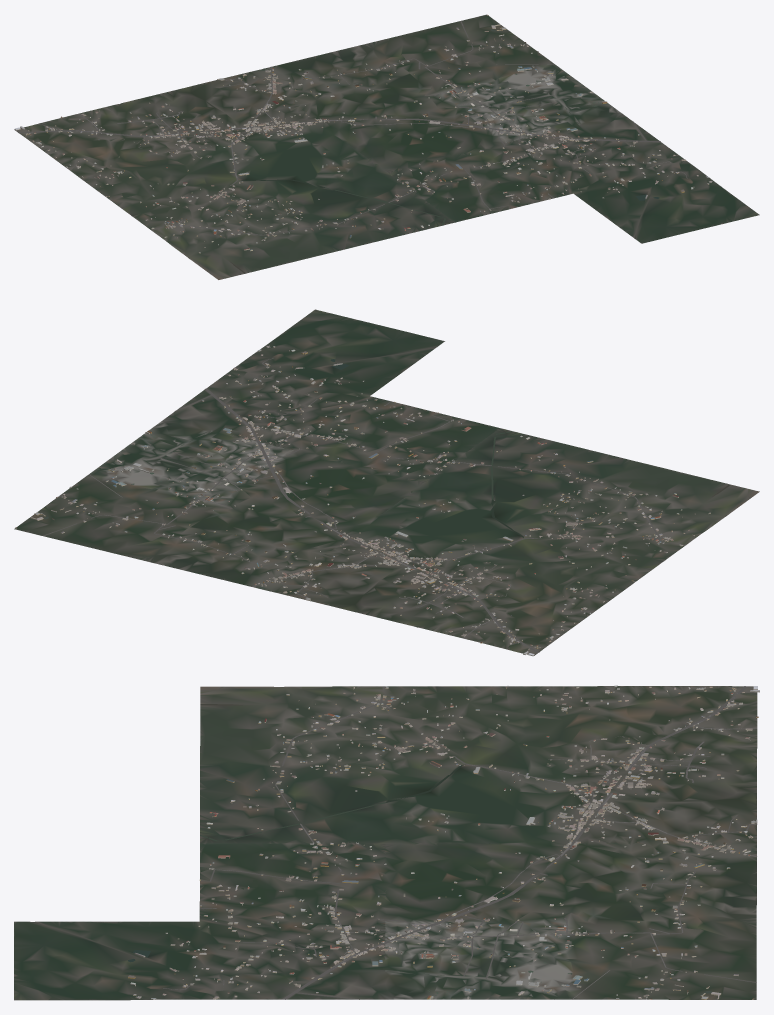
The picture shows the model from 3 angles, top to bottom: view 1: azimuth 30°, elevation 25°; view 2: azimuth 150°, elevation 25°; view 3: azimuth 270°, elevation 25°; orthographic projection. The views are drawn at different scales.
Parts seen in each view (by area): view 1: ground, buildings, roads; view 2: ground, buildings, roads; view 3: ground, buildings, roads, water.
Boxes of the visible parts, <box> form: ground: <box>14,14,759,279</box>; buildings: <box>14,14,712,253</box>; roads: <box>18,21,687,235</box>; ground: <box>14,309,759,655</box>; buildings: <box>15,345,710,656</box>; roads: <box>43,358,685,652</box>; ground: <box>14,686,757,1000</box>; buildings: <box>128,685,759,999</box>; roads: <box>163,686,757,999</box>; water: <box>128,704,719,995</box>.
Size of the model in its own units: 5605 by 34.69 by 5627.
